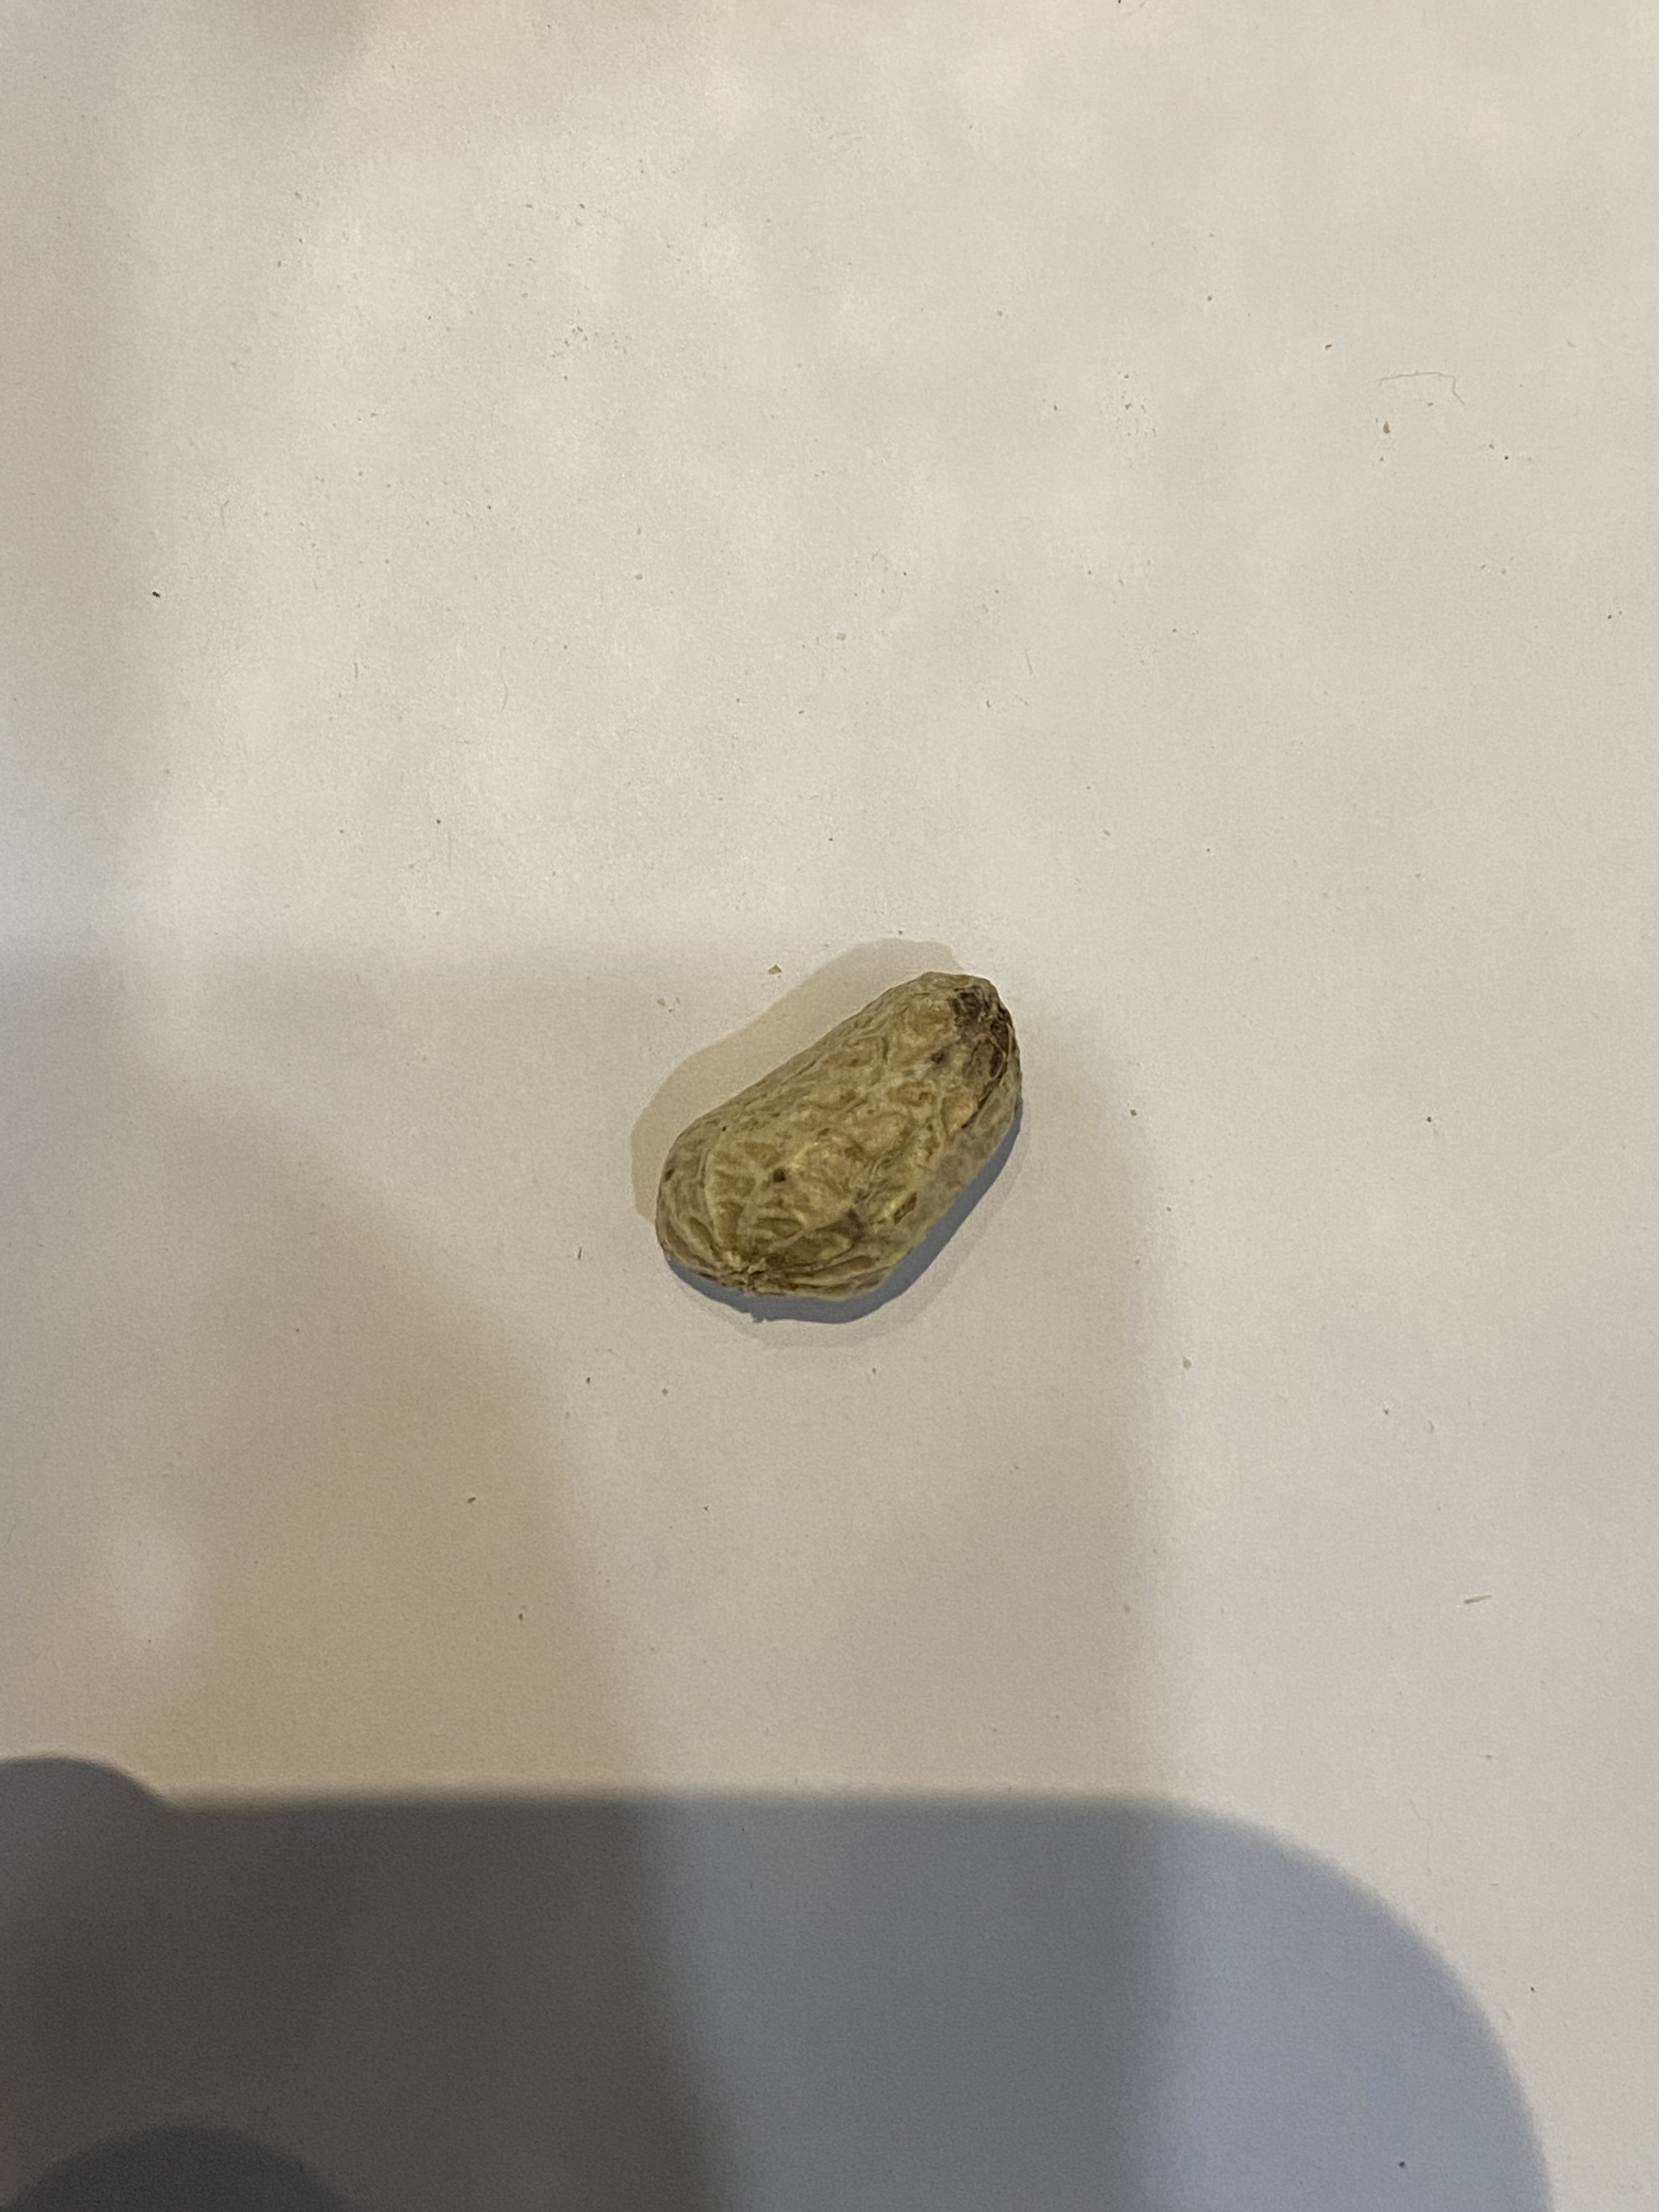kacang1: (647, 961, 1030, 1318)
